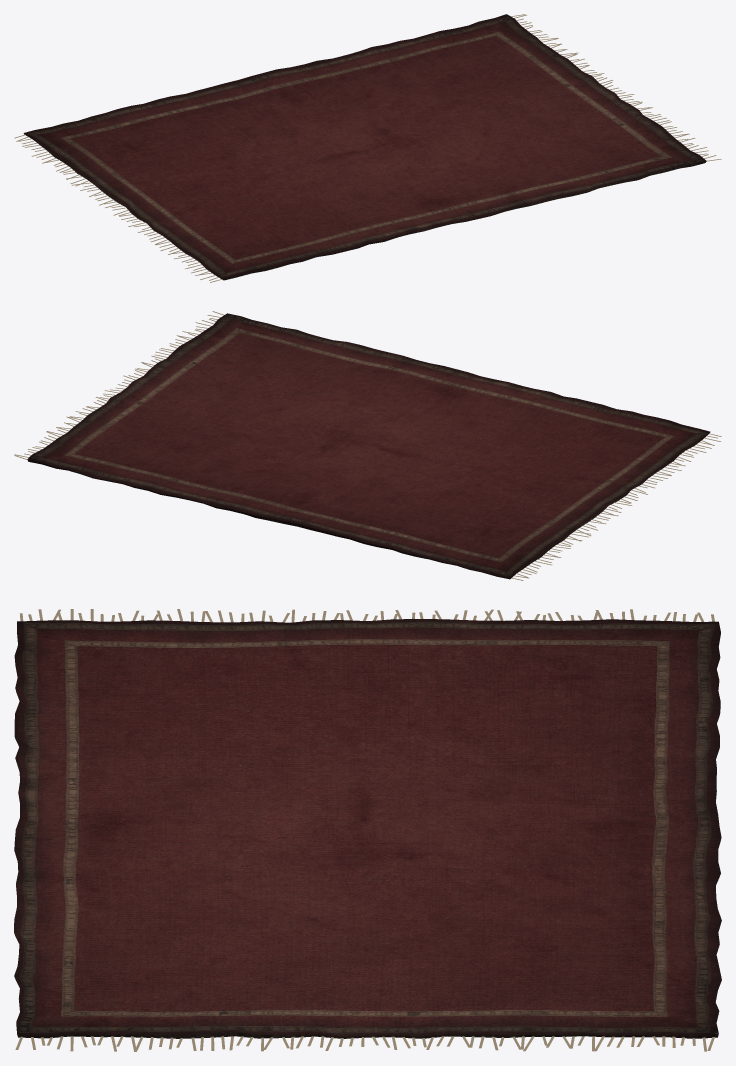
Rendered from rug.glb.
3 views of the same model, one above another, from view 1: azimuth 30°, elevation 25°; view 2: azimuth 150°, elevation 25°; view 3: azimuth 270°, elevation 25° (orthographic). The views are drawn at different scales.
Visible parts, largest first — view 1: rug; view 2: rug; view 3: rug.
Boxes of the visible parts, x1=… form: rug: x1=14, y1=14, x2=721, y2=282; rug: x1=14, y1=311, x2=721, y2=580; rug: x1=14, y1=609, x2=721, y2=1051.
Size of the model in its own units: 2.57 by 0.0147 by 1.74.
2 materials, 1 textured.
